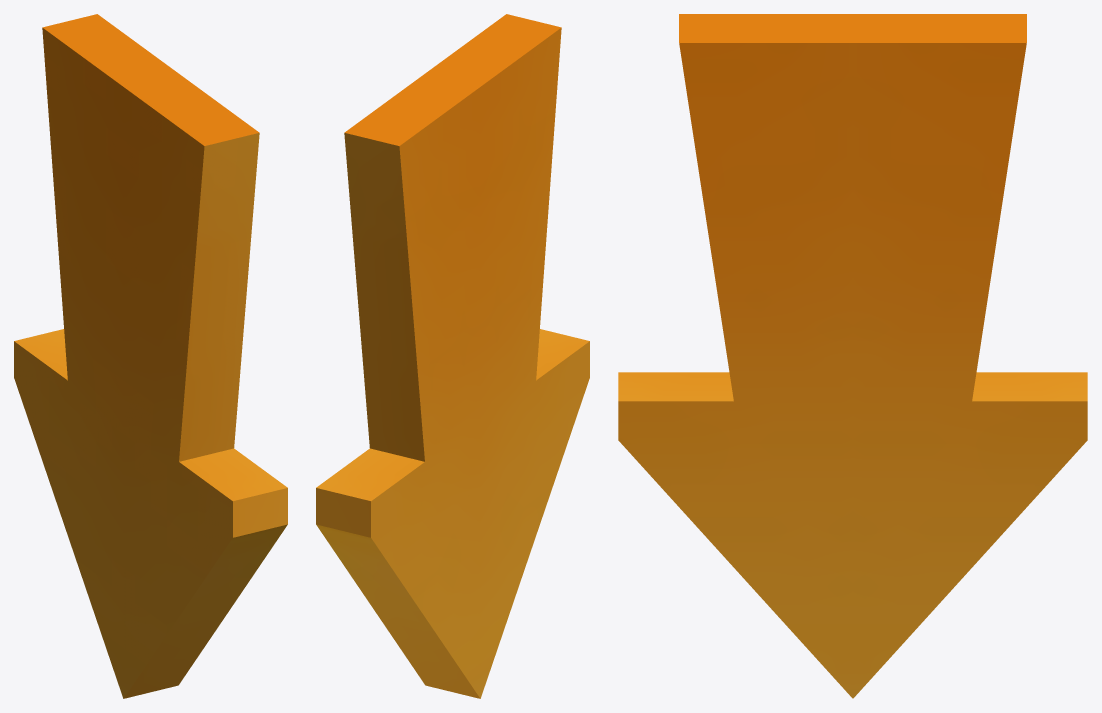
The model's file is Arrow.fbx.
3 views of the same model, side by side, from view 1: azimuth 30°, elevation 25°; view 2: azimuth 150°, elevation 25°; view 3: azimuth 270°, elevation 25° (orthographic). The views are drawn at different scales.
Parts seen in each view (by area): view 1: Plane; view 2: Plane; view 3: Plane.
Boxes of the visible parts, x1,y1,x2,y2 form: Plane: [14, 14, 287, 698]; Plane: [316, 14, 589, 698]; Plane: [618, 14, 1087, 698].
Size of the model in its own units: 0.1041 by 1.1 by 0.7155.
